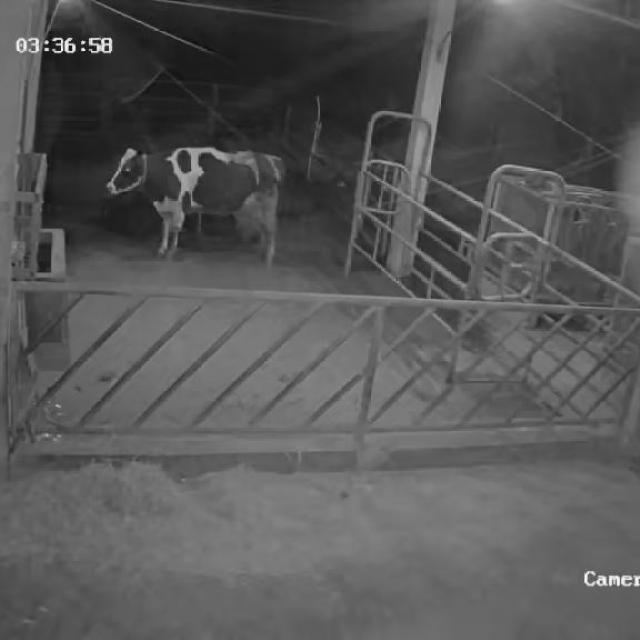standing: (110, 144, 283, 266)
